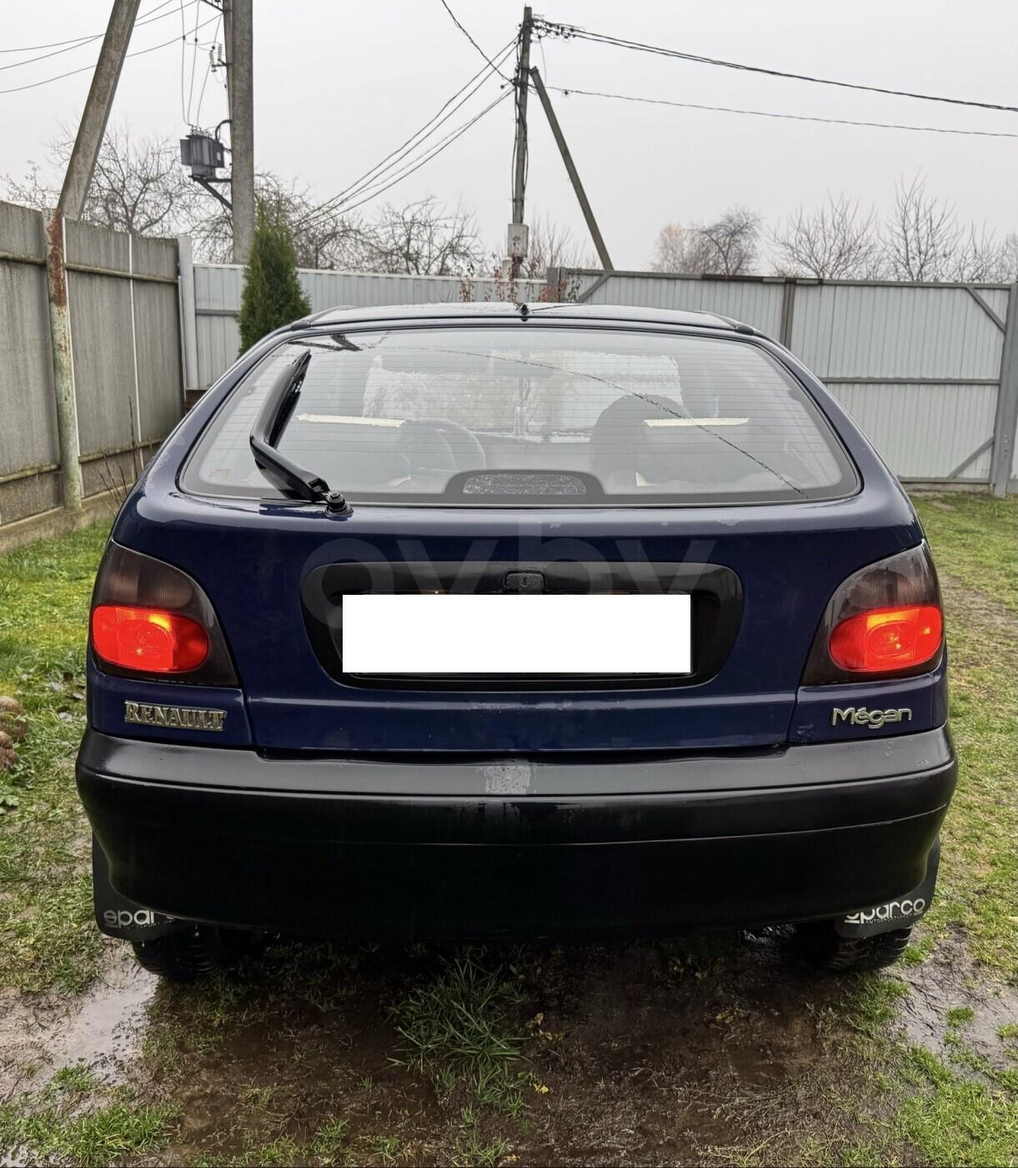Megane_1995-1999: (73, 280, 954, 981)
